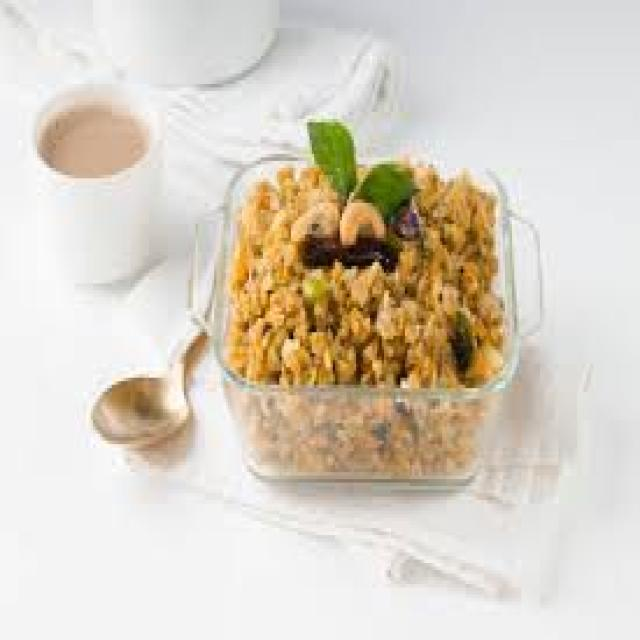UPMA: (221, 154, 500, 381)
